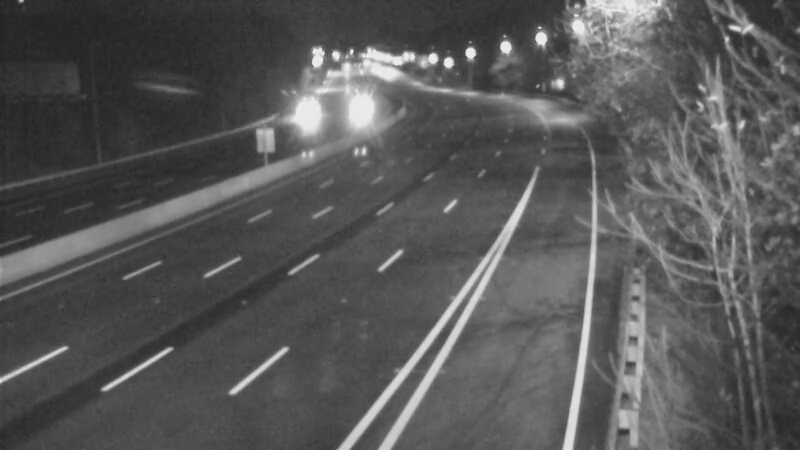vehicle: (278, 91, 328, 141), (335, 90, 385, 140)
